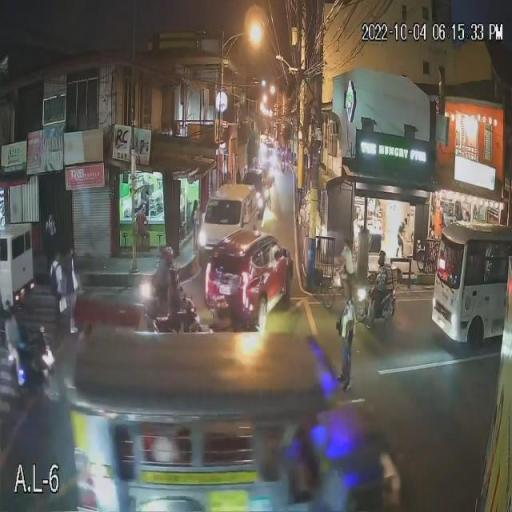helmet: (162, 246, 174, 259), (376, 252, 386, 266)
motorcycle: (138, 278, 202, 334), (354, 278, 400, 330)
rider: (154, 246, 182, 320), (368, 253, 394, 311)
